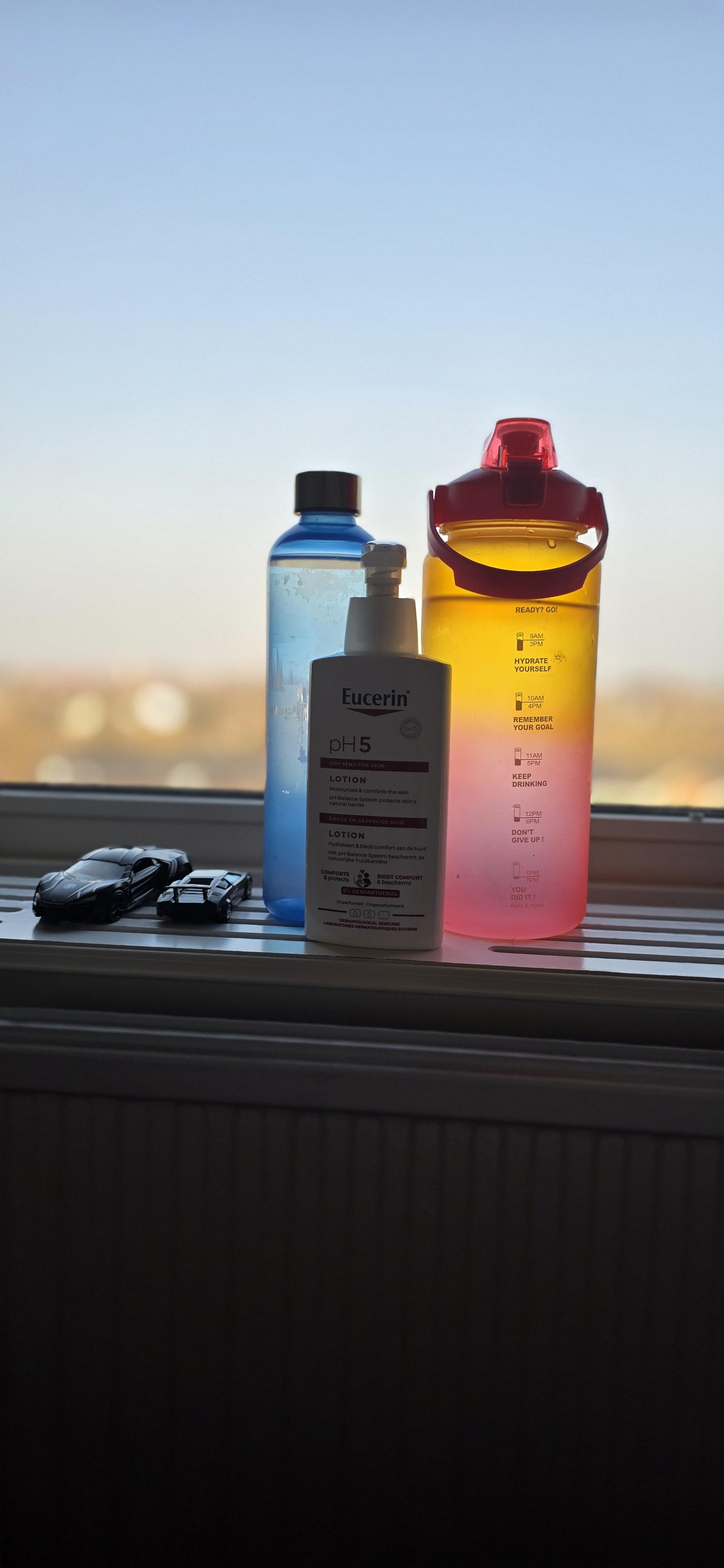bottle: (266, 385, 357, 664)
